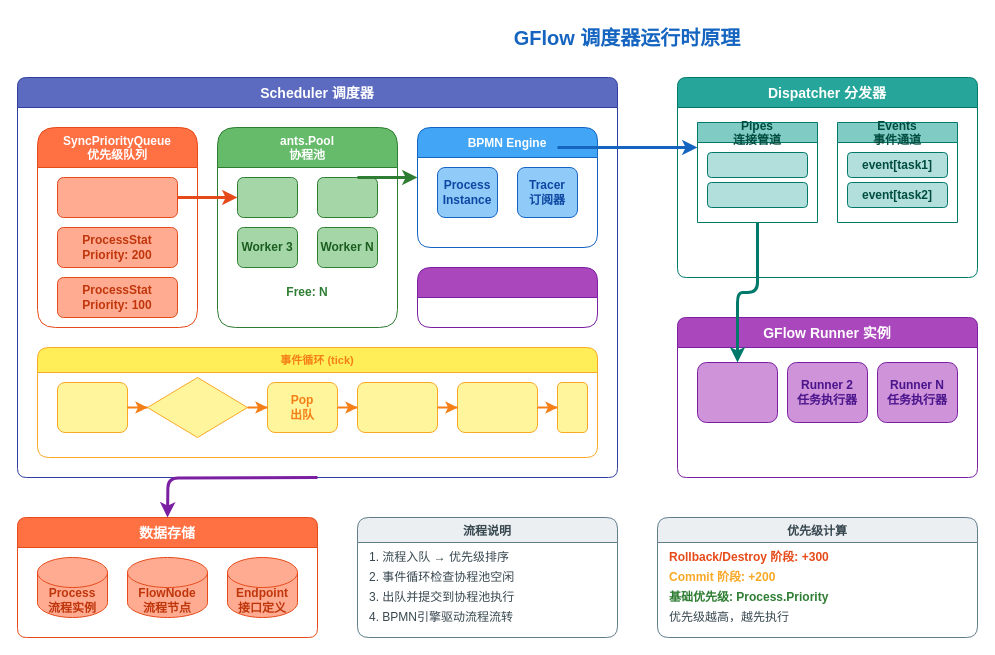
This 995x655 diagram has some shape labels left out. The centre of each missing label's shape, as x and y in pixels:
Execute 执行流程: point (497, 407)
Next 继续: point (572, 407)
pipe[runner1]: point (757, 165)
pipe[runner2]: point (757, 195)
ProcessStat Priority: 300: point (117, 197)
Runner 1 任务执行器: point (737, 392)
Submit 提交任务: point (397, 407)
Timer 100μs: point (92, 407)
Watchers 监听器映射: point (507, 297)
Worker 1: point (267, 197)
Worker 2: point (347, 197)
检查协程池 Free > 0?: point (197, 407)
